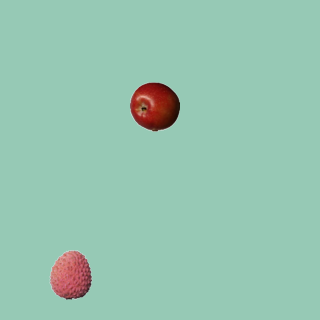Apple Braeburn: (129, 81, 179, 131)
Lychee: (45, 249, 95, 299)
